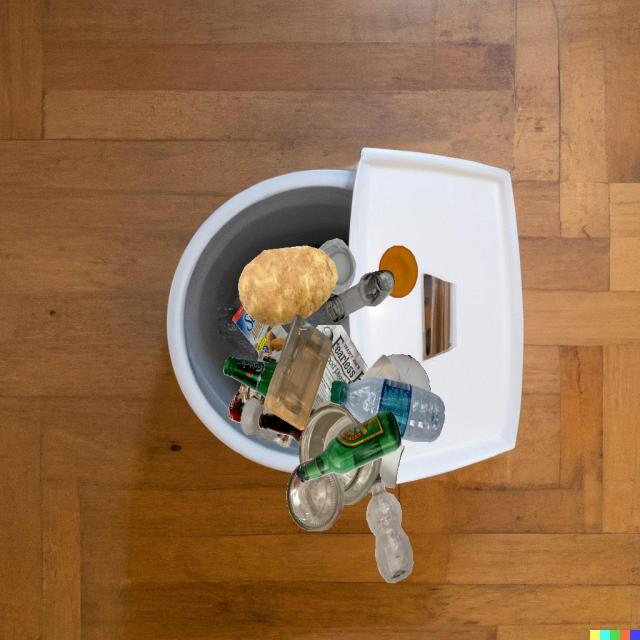biowaste: (238, 245, 338, 326)
cardboard: (232, 304, 288, 359)
glass: (296, 410, 401, 483), (286, 458, 345, 531), (299, 399, 362, 464), (326, 270, 395, 323), (223, 357, 278, 398), (339, 457, 382, 505), (241, 397, 279, 442), (258, 413, 303, 443), (368, 488, 371, 492)
paper: (312, 325, 369, 408), (254, 361, 279, 433), (387, 354, 430, 392), (361, 354, 407, 383), (379, 445, 405, 488), (228, 383, 255, 423)
plastic: (264, 314, 332, 431), (331, 377, 445, 442), (366, 472, 413, 583), (319, 238, 356, 295), (379, 245, 418, 298)
